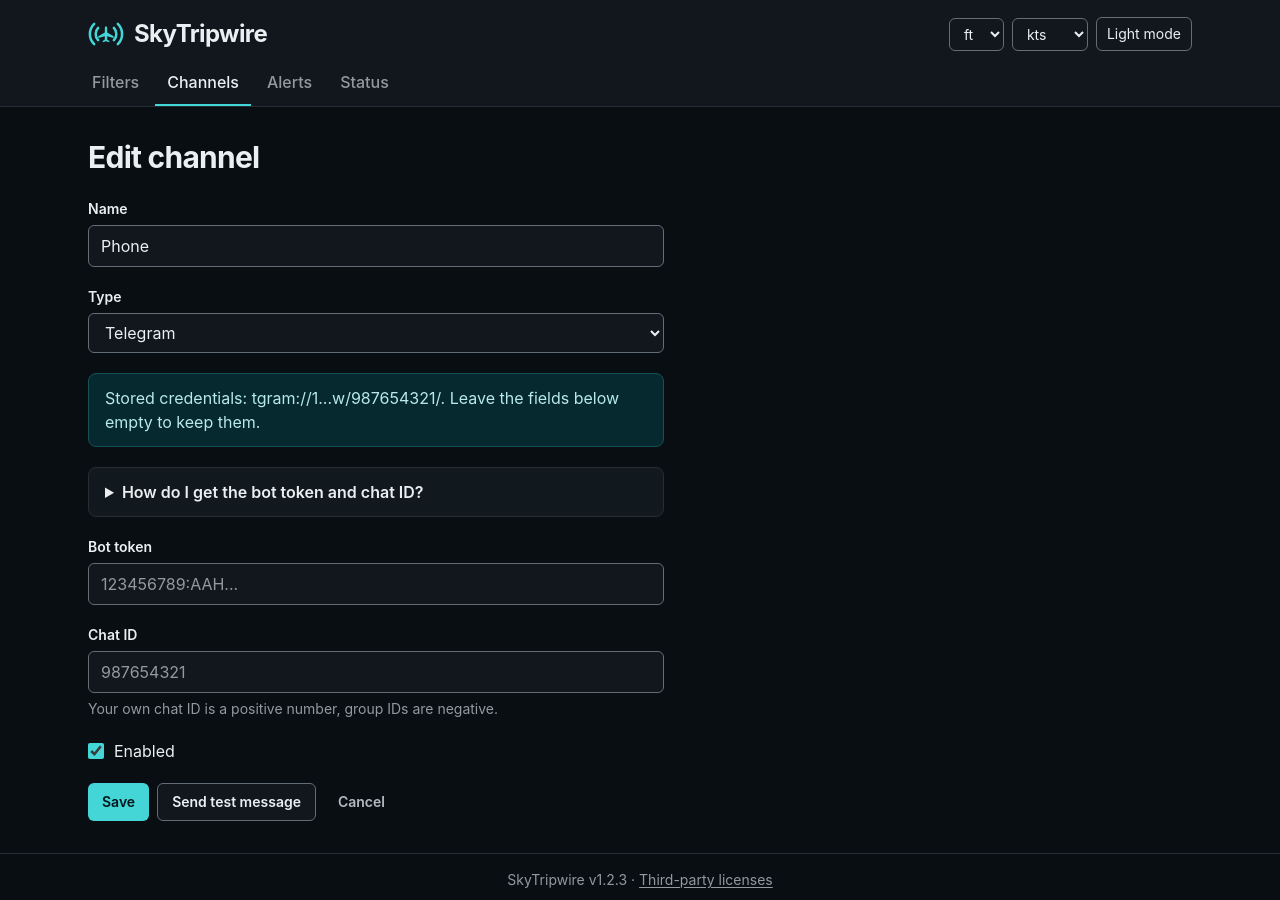
channel editor › keeps stored credentials when editing without new ones
Expected: the text "Leave the fields below empty" is shown, [105,388,619,432]
Replace the text in the field labelled "Name" with "Old phone" at (376, 246), box [88,225,664,267]
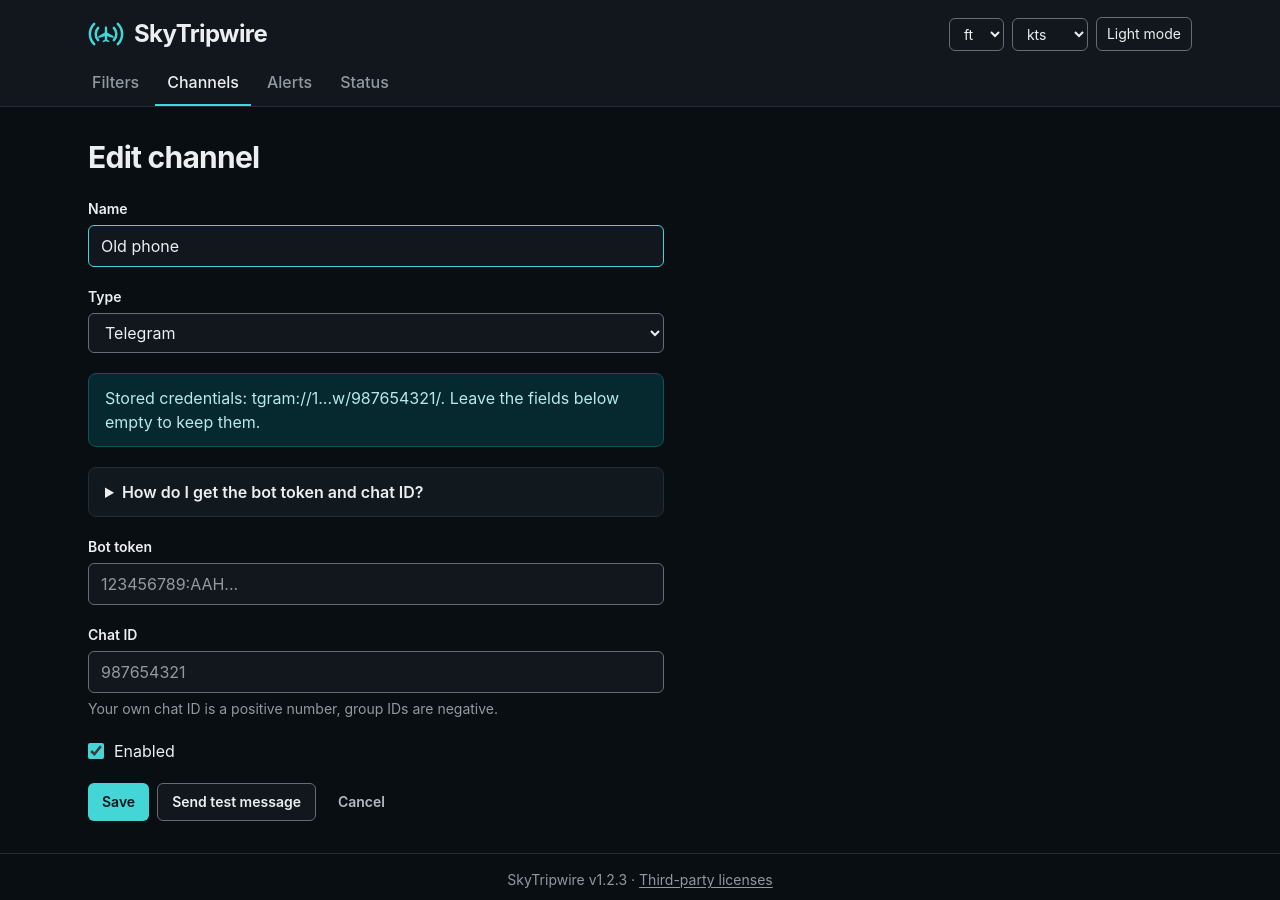
Click the button "Save" at (119, 802), box [88,783,149,821]
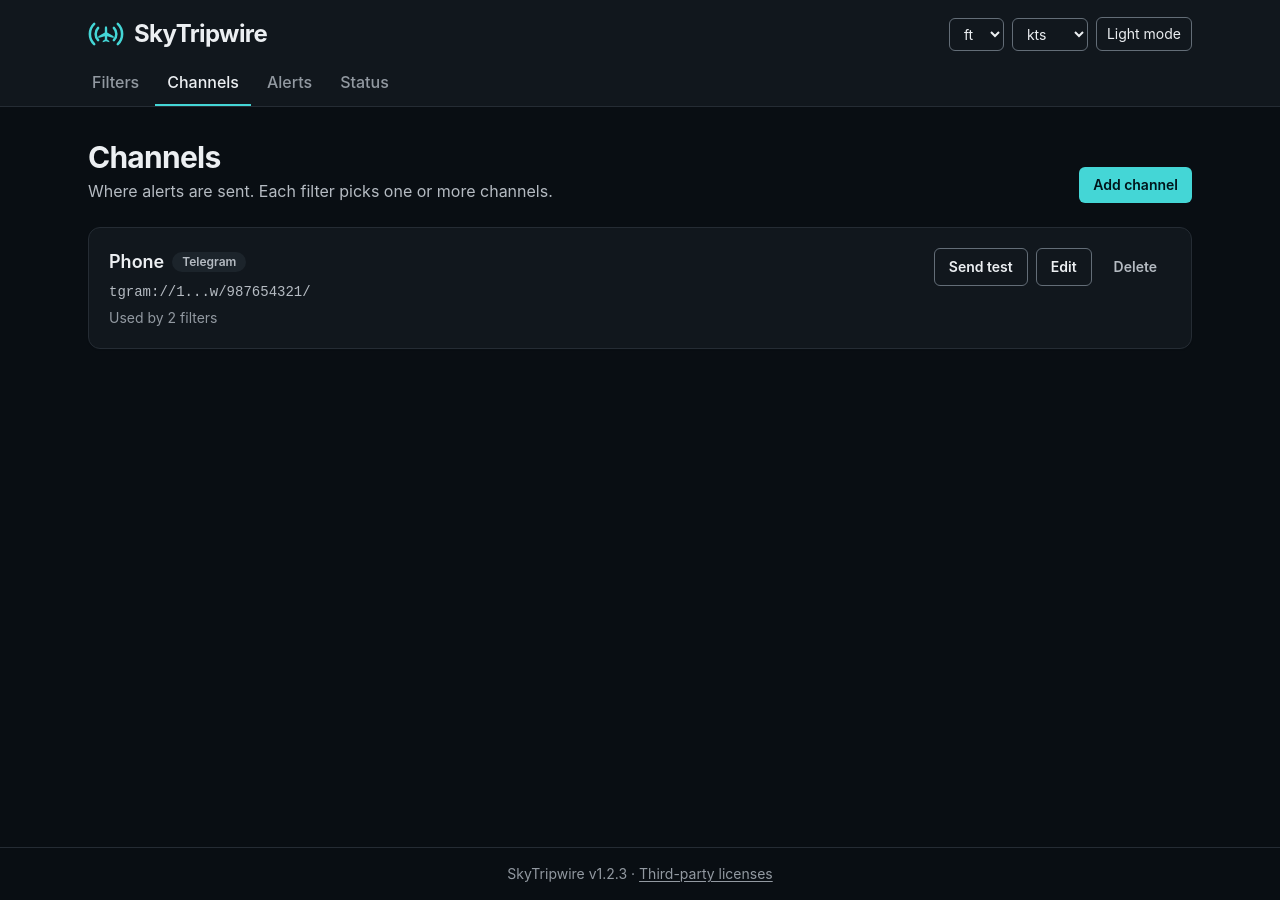
Result: the heading "Channels" is shown at [88,139,220,175]
